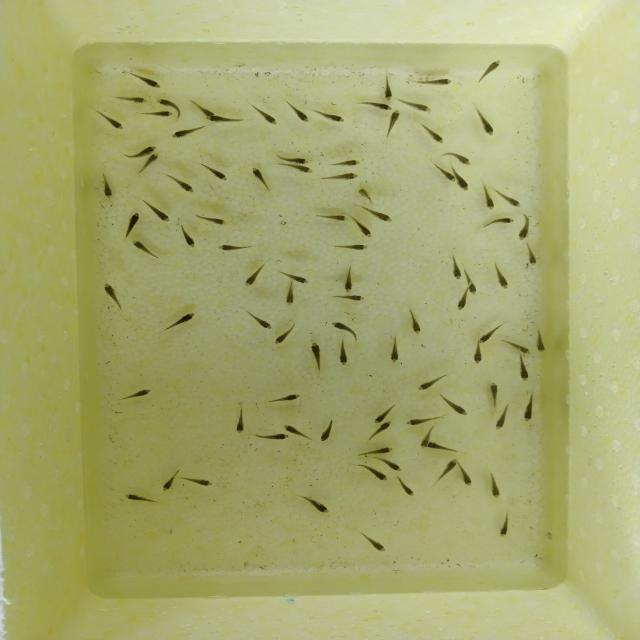fingerling: (436, 394, 470, 418), (433, 456, 460, 486), (162, 310, 198, 331), (144, 200, 175, 224), (472, 104, 495, 136), (298, 495, 330, 517), (366, 419, 396, 442), (265, 391, 303, 408), (475, 324, 503, 347), (418, 74, 458, 90), (358, 532, 388, 553), (125, 492, 162, 509), (285, 98, 310, 123), (395, 472, 419, 498), (134, 240, 162, 262), (480, 214, 516, 231), (166, 174, 196, 194), (96, 112, 126, 132), (120, 386, 155, 403), (100, 280, 124, 304), (420, 373, 452, 391), (161, 467, 185, 491), (418, 122, 444, 144), (494, 400, 511, 433), (315, 107, 346, 125), (273, 326, 298, 348), (486, 381, 500, 420), (276, 270, 315, 284), (504, 338, 534, 356), (326, 158, 364, 172), (480, 58, 503, 81), (374, 404, 400, 424), (522, 393, 538, 425), (400, 99, 434, 114), (431, 166, 459, 184), (306, 338, 324, 366), (252, 104, 277, 124), (515, 353, 532, 382), (493, 262, 511, 289), (204, 113, 248, 124), (123, 144, 160, 157), (358, 464, 388, 480), (359, 206, 391, 221), (484, 469, 501, 497), (357, 100, 393, 113), (278, 424, 307, 440), (134, 74, 163, 90), (517, 213, 533, 242), (244, 267, 266, 288), (534, 326, 548, 359), (141, 153, 164, 173), (200, 165, 227, 182), (387, 333, 402, 363), (351, 216, 372, 237), (468, 344, 488, 366), (250, 166, 269, 189), (122, 214, 140, 238), (336, 338, 352, 365), (108, 94, 150, 104), (249, 313, 272, 331), (500, 508, 514, 537), (328, 320, 355, 335), (408, 315, 425, 338), (481, 186, 496, 212), (234, 405, 247, 435), (187, 475, 217, 488), (323, 172, 358, 183), (359, 446, 394, 457), (334, 291, 366, 303), (453, 172, 472, 192), (180, 226, 198, 247), (320, 423, 337, 445), (100, 175, 114, 201), (449, 250, 462, 278), (452, 154, 478, 168), (497, 195, 525, 208), (192, 100, 214, 116), (406, 415, 434, 427), (426, 442, 463, 451), (273, 155, 310, 164), (455, 292, 469, 315), (419, 428, 433, 451), (280, 165, 312, 175), (381, 457, 402, 472), (342, 270, 355, 294), (192, 216, 226, 225), (168, 129, 198, 139), (384, 72, 394, 102), (462, 460, 472, 490), (333, 243, 369, 251), (388, 108, 401, 130), (526, 245, 539, 267), (282, 289, 296, 309), (250, 433, 290, 440), (143, 109, 173, 118), (158, 98, 180, 110), (216, 244, 253, 251), (319, 214, 347, 223), (464, 281, 478, 298), (358, 187, 373, 202)
